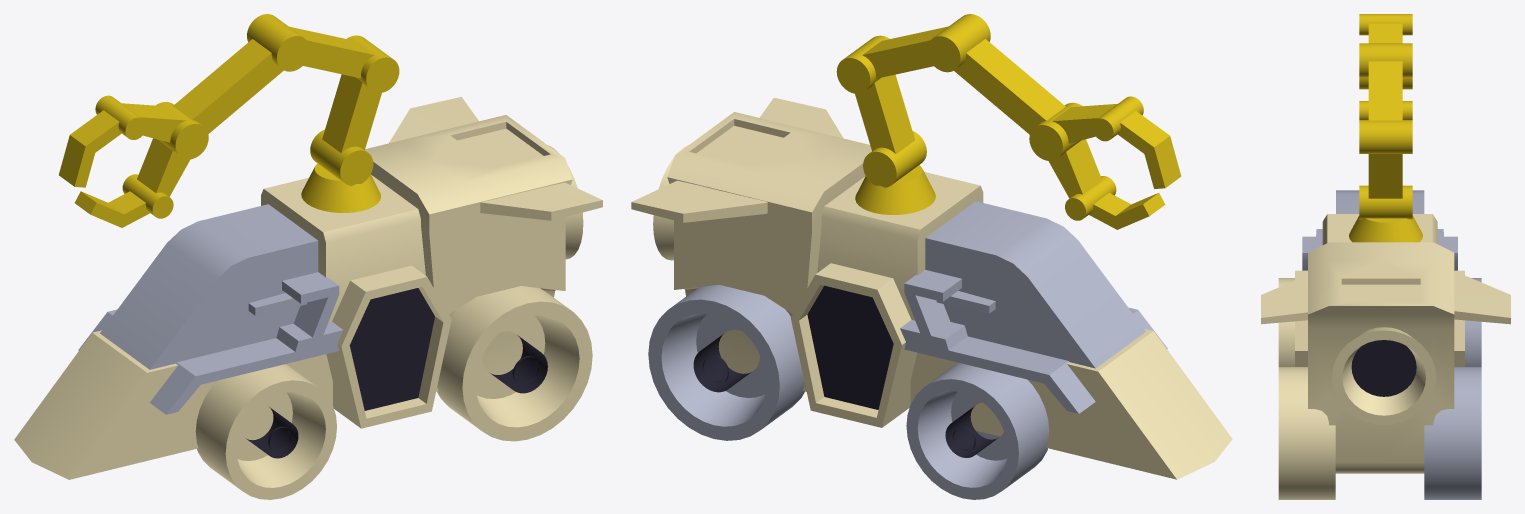
Rendered from Jayce-vehicle-texture.glb.
The picture shows the model from 3 angles, left to right: view 1: azimuth 30°, elevation 25°; view 2: azimuth 150°, elevation 25°; view 3: azimuth 270°, elevation 25°; orthographic projection. The views are drawn at different scales.
Parts seen in each view (by area): view 1: Cube.001; view 2: Cube.001; view 3: Cube.001.
Boxes of the visible parts, x1=… form: Cube.001: x1=14, y1=14, x2=602, y2=499; Cube.001: x1=631, y1=14, x2=1232, y2=499; Cube.001: x1=1261, y1=14, x2=1510, y2=499.
Bounding box in the file's own units: 2.88 × 2.18 × 1.34.
